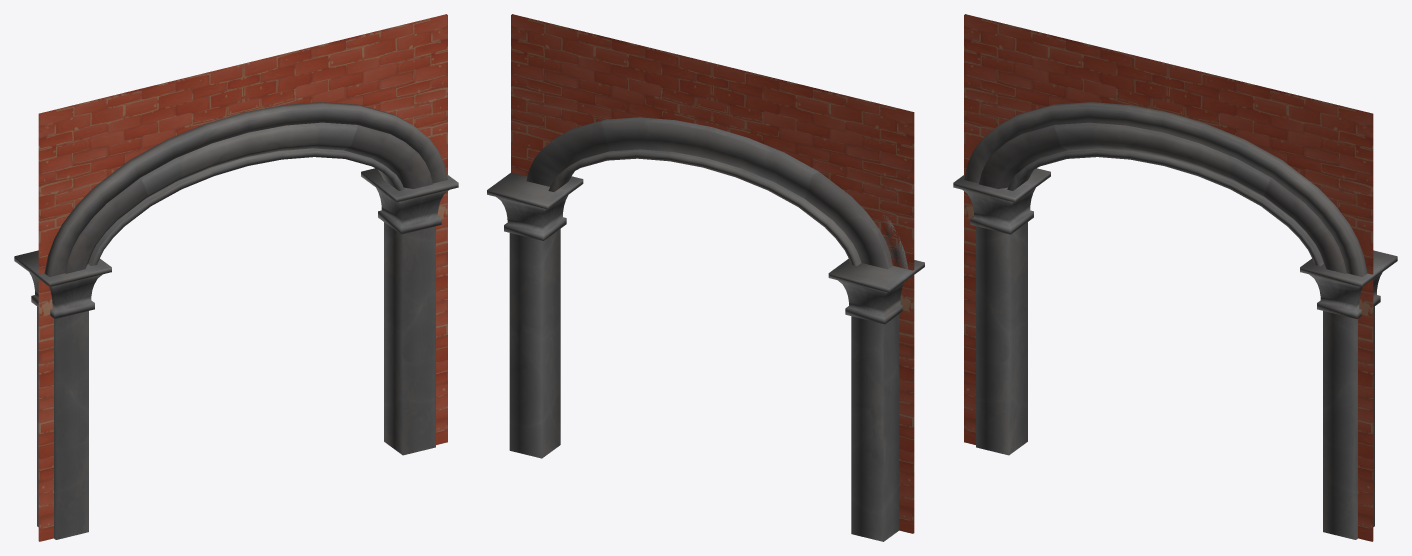
Rendered from Gate.fbx.
The picture shows the model from 3 angles, left to right: view 1: azimuth 30°, elevation 25°; view 2: azimuth 150°, elevation 25°; view 3: azimuth 330°, elevation 25°; orthographic projection.
Parts seen in each view (by area): view 1: Gate; view 2: Gate; view 3: Gate.
Boxes of the visible parts, x1=… form: Gate: x1=14, y1=14, x2=458, y2=541; Gate: x1=487, y1=14, x2=924, y2=541; Gate: x1=953, y1=14, x2=1397, y2=541.
Size of the model in its own units: 4 by 4 by 0.6069.
